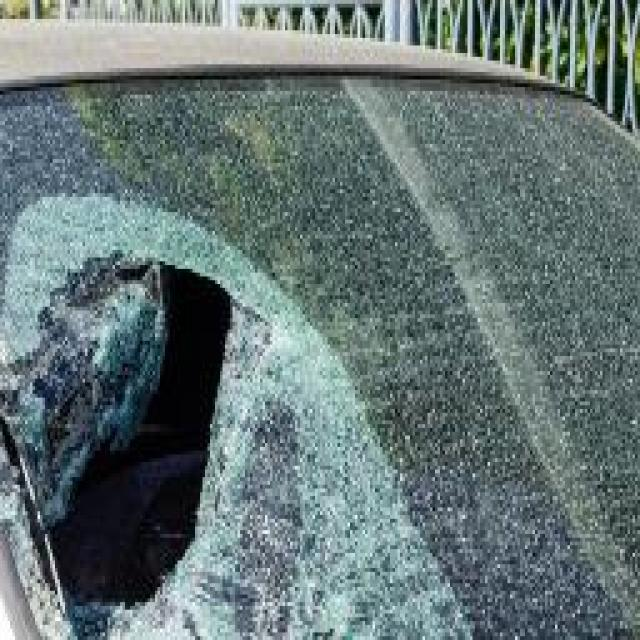Windshield: (0, 72, 640, 640)
